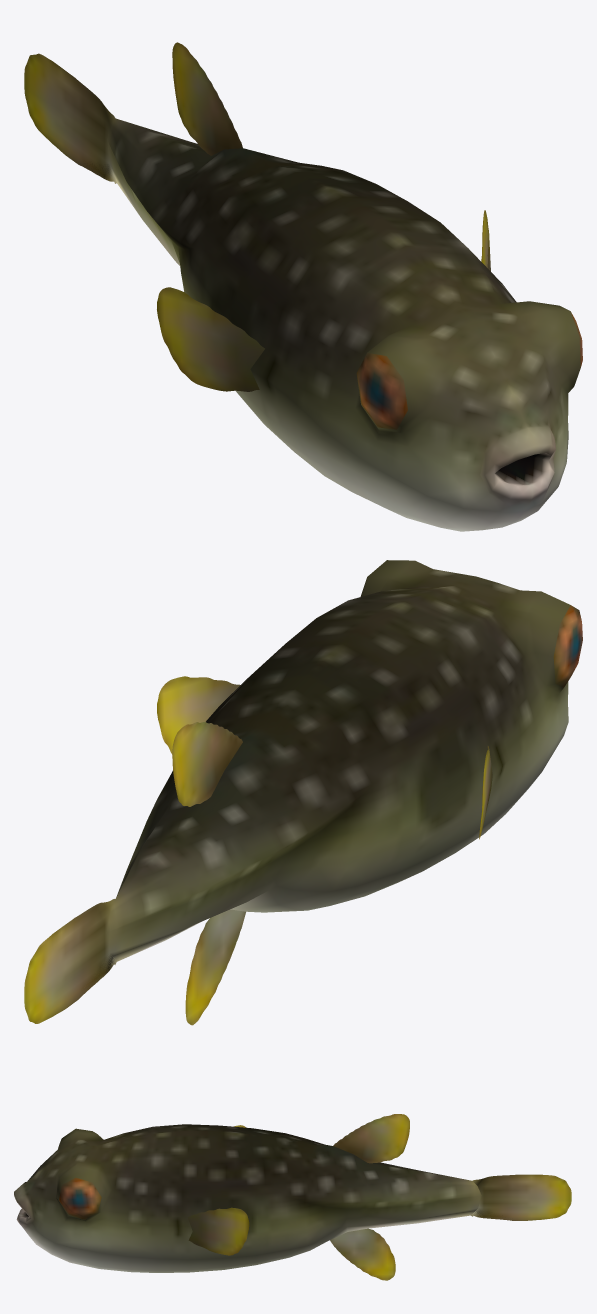
File: puffer-fish.glb
3 views of the same model, one above another, from view 1: azimuth 30°, elevation 25°; view 2: azimuth 150°, elevation 25°; view 3: azimuth 270°, elevation 25° (orthographic). The views are drawn at different scales.
Bounding box in the file's own units: 1.93 × 2.08 × 5.21.
1 material, 1 textured.
